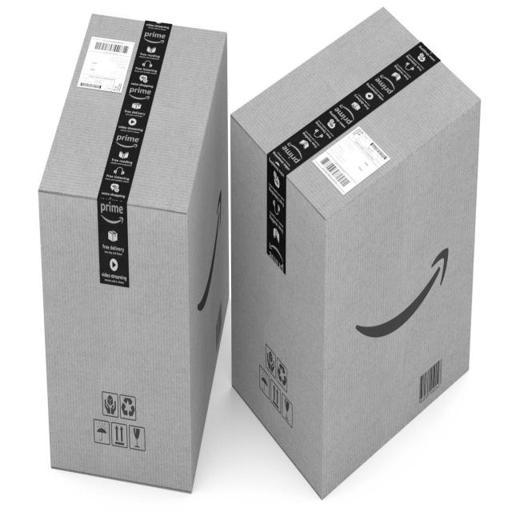Amazon: (231, 7, 485, 496), (34, 12, 228, 493)
